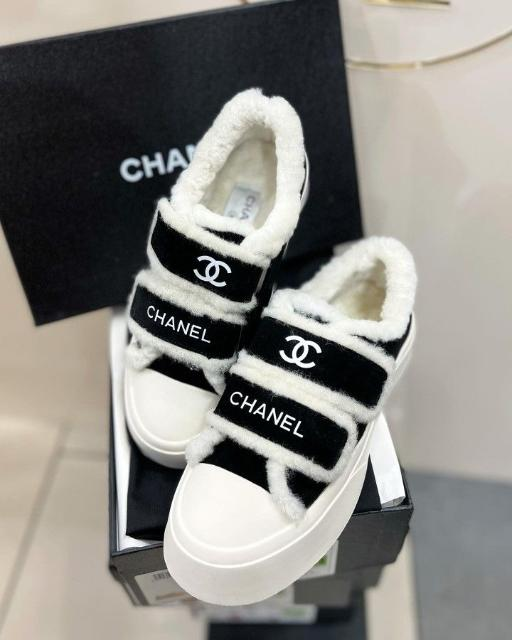Chanel: (218, 379, 311, 449), (139, 292, 216, 354), (263, 323, 339, 382), (184, 243, 237, 297)
